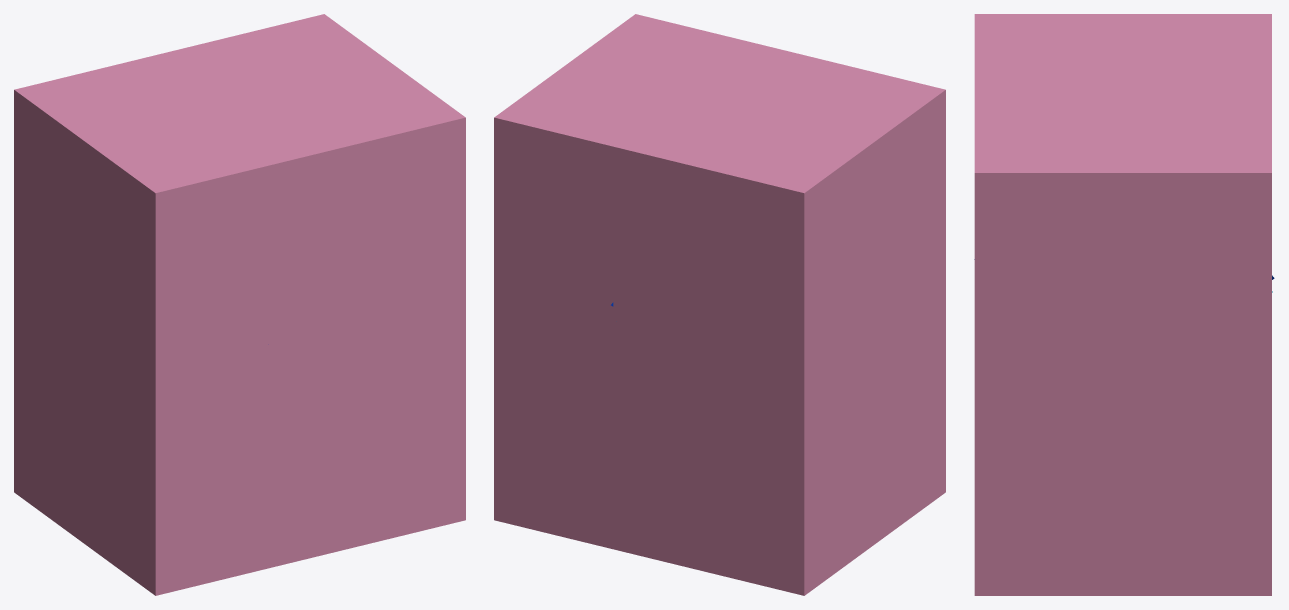
File: tree_beech_large_c.dae
3 views of the same model, side by side, from view 1: azimuth 30°, elevation 25°; view 2: azimuth 150°, elevation 25°; view 3: azimuth 270°, elevation 25° (orthographic). The views are drawn at different scales.
Parts seen in each view (by area): view 1: Untitled; view 2: Untitled; view 3: Untitled.
Boxes of the visible parts, bbox=[...] form: Untitled: bbox=[14, 14, 465, 595]; Untitled: bbox=[494, 14, 945, 595]; Untitled: bbox=[974, 14, 1271, 595].
Bounding box in the file's own units: 12.95 × 10.34 × 16.07.
